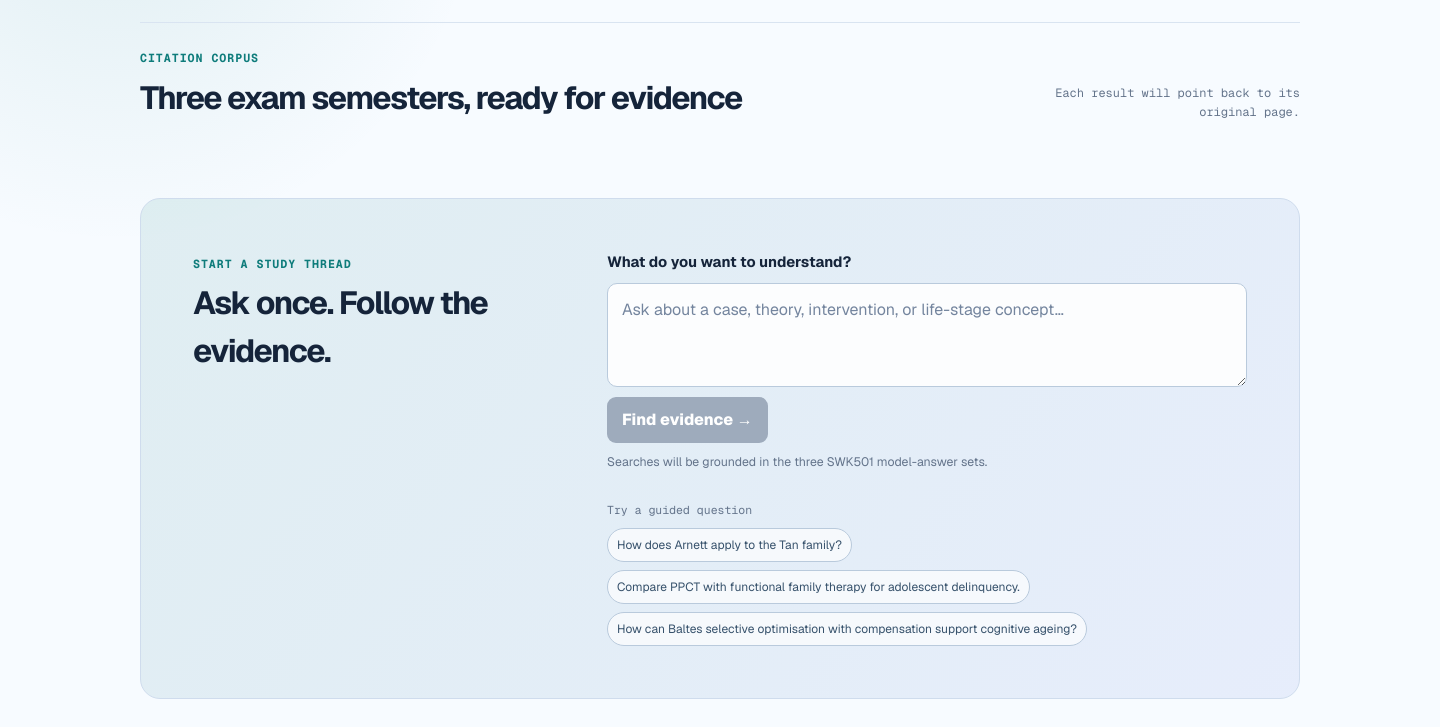
Test: finishes in degraded mode while preserving the grounded answer
(page scrolled)
Type "Explain Arnett" into the text box at {"x": 927, "y": 335}, box [607,283,1247,387]
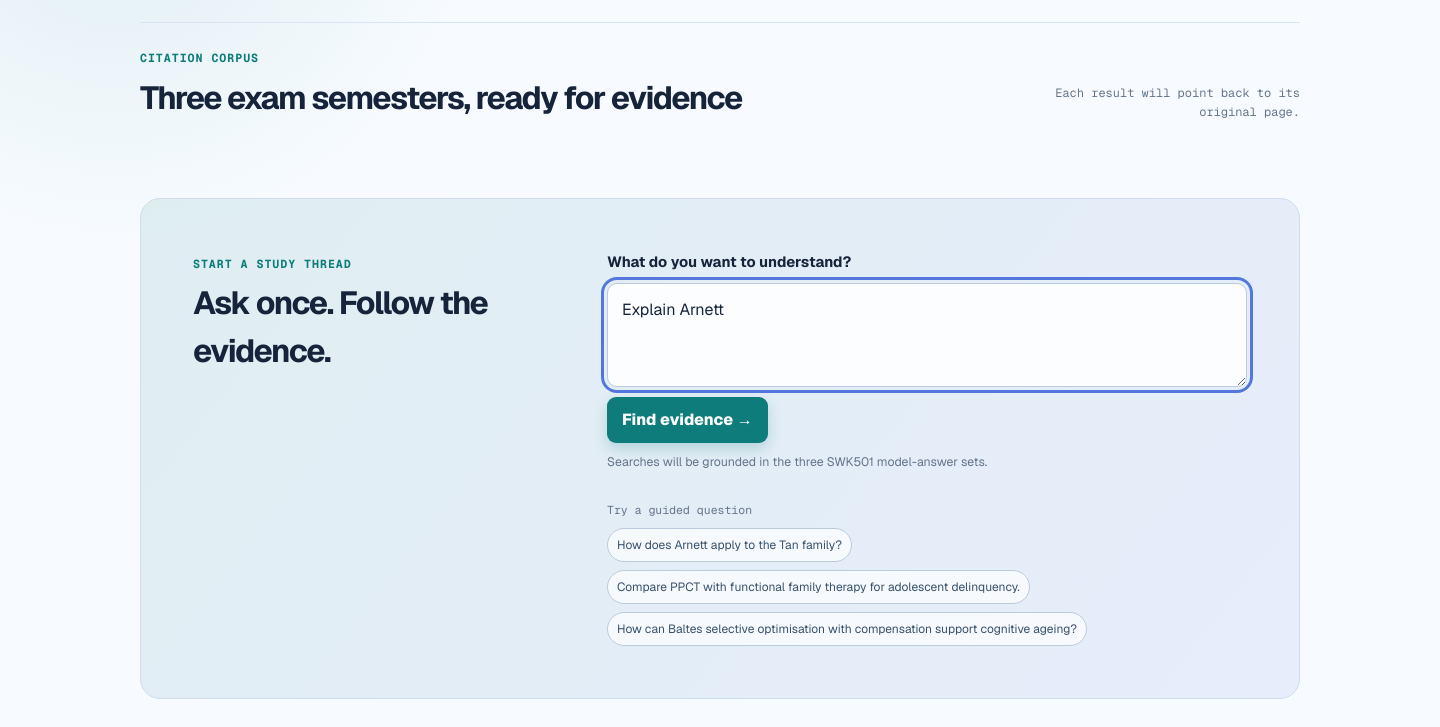
Click the button "Find evidence →" at {"x": 687, "y": 420}, box [607,397,768,443]
(page scrolled)
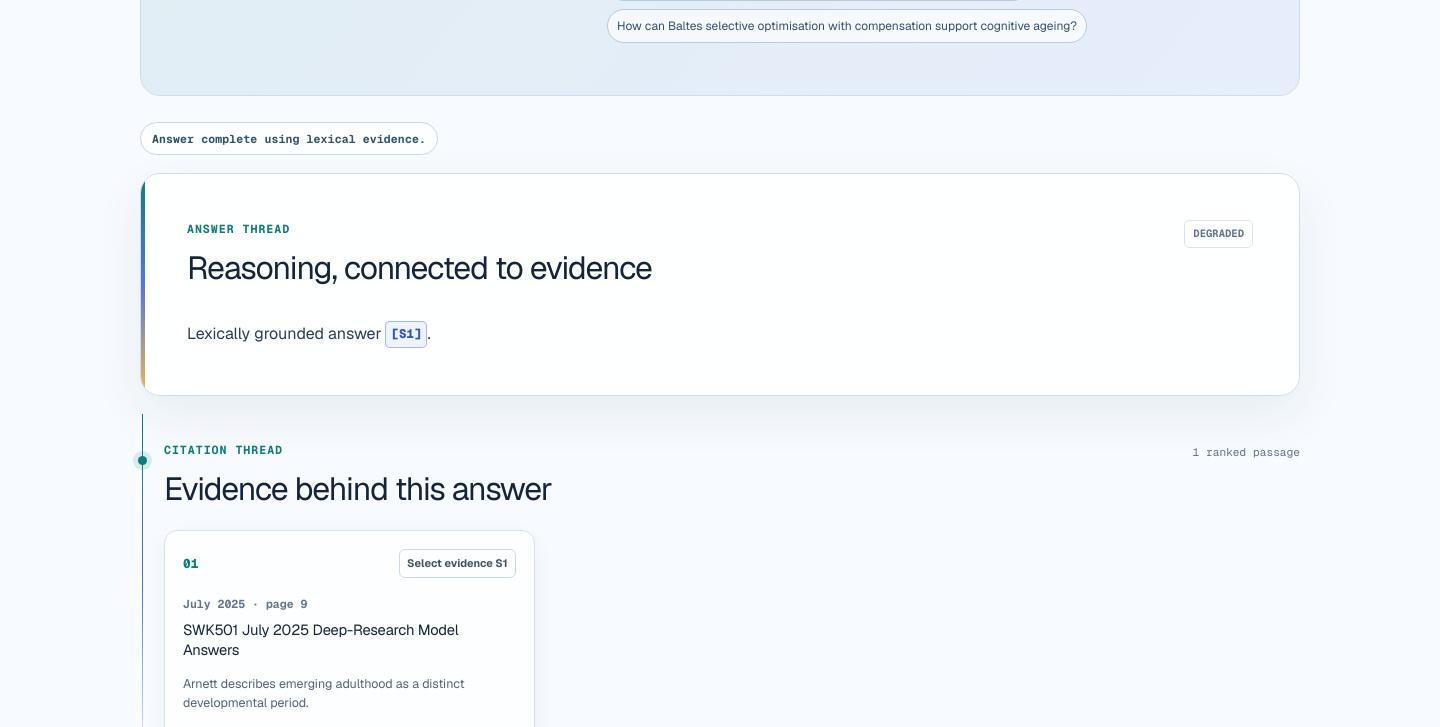
Expected: the text "Answer complete using lexical evidence." is shown, [140,122,438,155]
Expected: the text "Lexically grounded answer [S1] ." is shown, [187,321,431,348]
